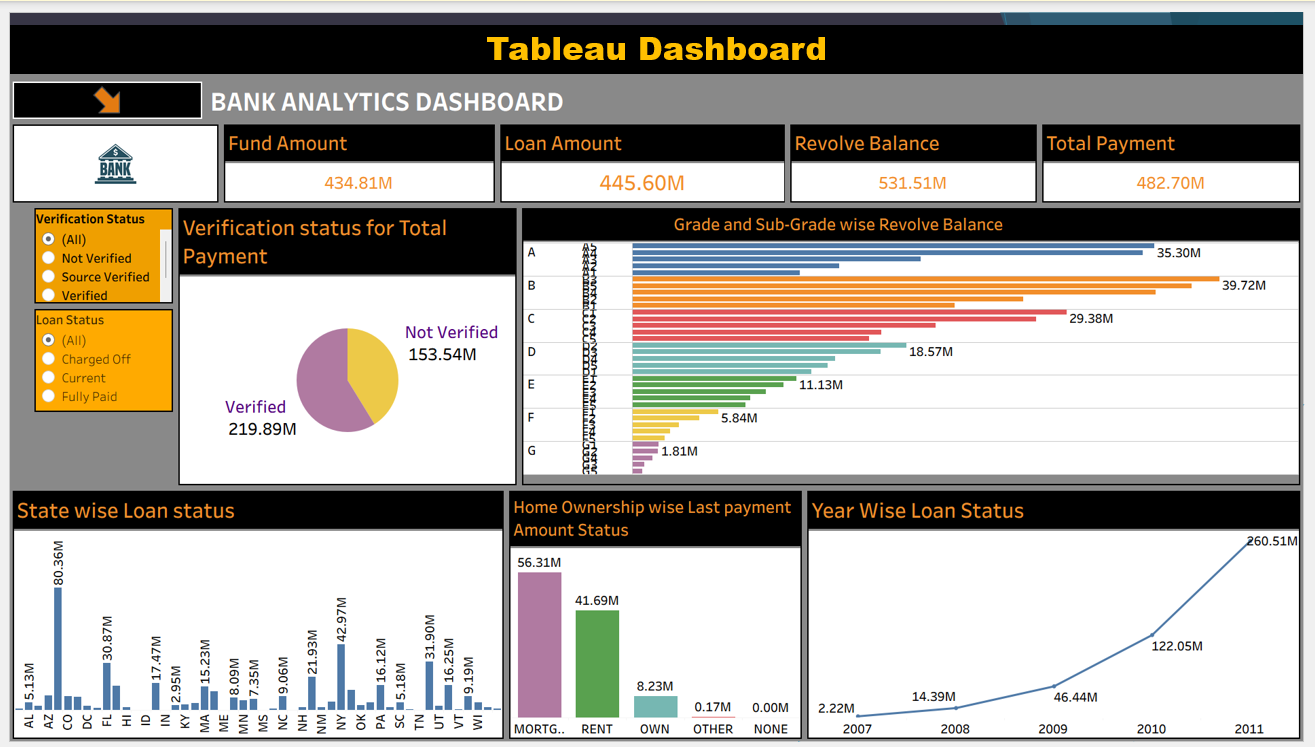

This screenshot's page, from the dashboard's own definition file:
{"tool":"tableau","page":{"name":"Dashboard 1","canvas":[1000,1000],"units":"permille","ordinal":0},"visuals":[{"type":"dashboard-object","box":[4.7,10,149.3,63.7]},{"type":"text","box":[154,10,841.2,63.7]},{"type":"image","param":"Image/bank logo.jpg","box":[4.7,73.7,161.7,123.6]},{"type":"worksheet","title":"fund amt","mark":"Automatic","box":[166.4,73.7,211.6,123.6]},{"type":"worksheet","title":"loan amt","mark":"Automatic","box":[378,73.7,222.5,123.6]},{"type":"worksheet","title":"revol  balance","mark":"Automatic","box":[600.5,73.7,192.9,123.6]},{"type":"worksheet","title":"total payment","mark":"Automatic","box":[793.4,73.7,201.9,123.6]},{"type":"worksheet","title":"filter","mark":"Automatic","box":[4.7,197.2,18.9,418.2]},{"type":"filter","title":"filter","param":"[federated.13sweka1k7thtm0zwpeyo17consl].[none:verification_status:nk]","box":[23.6,197.2,125.2,182.3]},{"type":"worksheet","title":"verificationsts","mark":"Pie","box":[148.9,197.2,298.9,418.2]},{"type":"worksheet","title":"grade and sub grade ","mark":"Automatic","rows":["grade","sub_grade"],"cols":["_revol_bal"],"box":[447.7,197.2,547.5,418.2]},{"type":"filter","title":"filter2","param":"[federated.13sweka1k7thtm0zwpeyo17consl].[none:loan_status:nk]","box":[23.6,379.5,125.2,196]},{"type":"worksheet","title":"filter2","mark":"Automatic","box":[23.6,575.5,125.2,40]},{"type":"worksheet","title":"statewise","mark":"Automatic","rows":["loan_amnt"],"cols":["addr_state"],"box":[4.7,615.5,380.1,374.5]},{"type":"worksheet","title":"homeownership","mark":"Automatic","rows":["_last_pymnt_amnt"],"cols":["home_ownership"],"box":[384.9,615.5,259.3,374.5]},{"type":"worksheet","title":"year wise loans ts","mark":"Automatic","rows":["loan_amnt"],"cols":["issue_d"],"box":[644.2,615.5,351.1,374.5]}]}

Visuals, with their boxes on the dashboard's canvas, which has no fixed pixel size, in thousandths of its width and height (x1, y1, x2, y2). These are canvas units, not pixel positions in the 1315x747 screenshot, which may show the page scaled, cropped or inside an application window:
dashboard-object: (x1=5, y1=10, x2=154, y2=74)
text: (x1=154, y1=10, x2=995, y2=74)
image: (x1=5, y1=74, x2=166, y2=197)
"fund amt" worksheet: (x1=166, y1=74, x2=378, y2=197)
"loan amt" worksheet: (x1=378, y1=74, x2=600, y2=197)
"revol  balance" worksheet: (x1=600, y1=74, x2=793, y2=197)
"total payment" worksheet: (x1=793, y1=74, x2=995, y2=197)
"filter" worksheet: (x1=5, y1=197, x2=24, y2=615)
"filter" filter: (x1=24, y1=197, x2=149, y2=380)
"verificationsts" worksheet (Pie marks): (x1=149, y1=197, x2=448, y2=615)
"grade and sub grade " worksheet: (x1=448, y1=197, x2=995, y2=615)
"filter2" filter: (x1=24, y1=380, x2=149, y2=576)
"filter2" worksheet: (x1=24, y1=576, x2=149, y2=616)
"statewise" worksheet: (x1=5, y1=616, x2=385, y2=990)
"homeownership" worksheet: (x1=385, y1=616, x2=644, y2=990)
"year wise loans ts" worksheet: (x1=644, y1=616, x2=995, y2=990)
